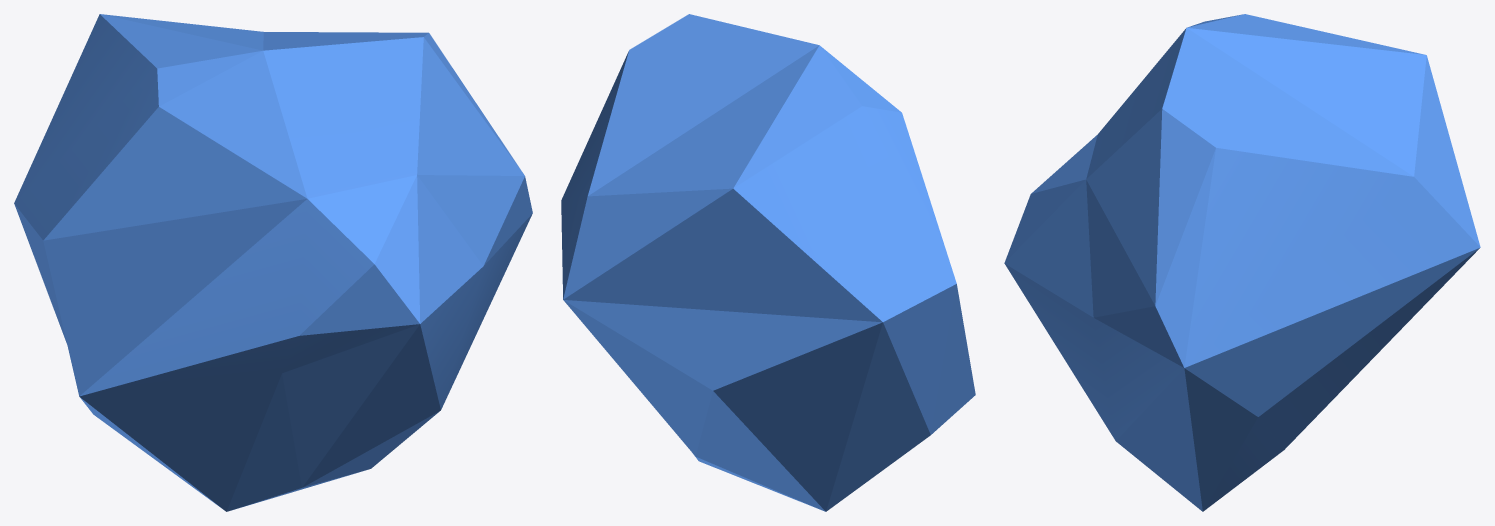
Rendered from ice-crystal.obj.
The picture shows the model from 3 angles, left to right: view 1: azimuth 30°, elevation 25°; view 2: azimuth 150°, elevation 25°; view 3: azimuth 270°, elevation 25°; orthographic projection. The views are drawn at different scales.
Parts seen in each view (by area): view 1: ice-crystal; view 2: ice-crystal; view 3: ice-crystal.
Boxes of the visible parts, box(x1,y1,x2,y2) form: ice-crystal: box(14, 14, 532, 511); ice-crystal: box(561, 14, 975, 511); ice-crystal: box(1004, 14, 1480, 511).
Bounding box in the file's own units: 0.2249 × 0.2232 × 0.2172.
Materials: 1 (1 with a texture image).
